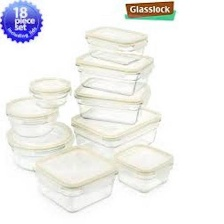plastic_box: (29, 144, 122, 216), (67, 101, 166, 160), (70, 45, 158, 99), (70, 74, 155, 127), (2, 118, 79, 176), (109, 139, 177, 196), (81, 20, 151, 67), (1, 92, 63, 140), (24, 73, 75, 111)
